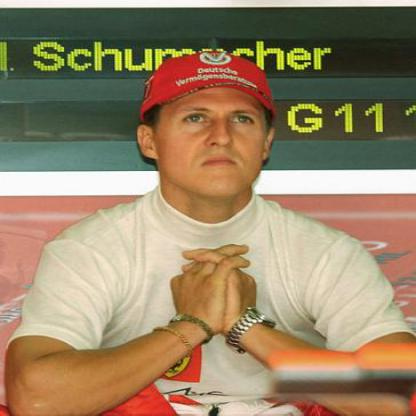face: (154, 57, 272, 202)
